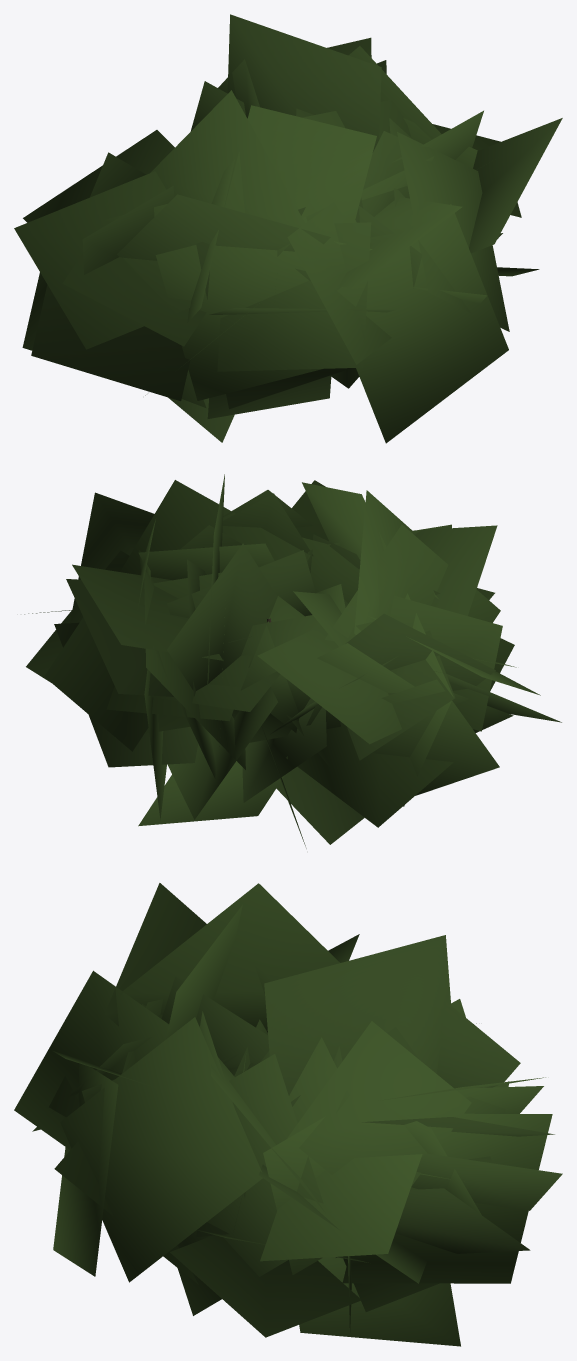
File: SM_Krzak_1.glb
The picture shows the model from 3 angles, top to bottom: view 1: azimuth 30°, elevation 25°; view 2: azimuth 150°, elevation 25°; view 3: azimuth 270°, elevation 25°; orthographic projection. The views are drawn at different scales.
Visible parts, largest first — view 1: SM_Krzak_1; view 2: SM_Krzak_1; view 3: SM_Krzak_1.
Boxes of the visible parts, left/top/right/bottom form: SM_Krzak_1: left=14, top=14, right=562, bottom=443; SM_Krzak_1: left=24, top=474, right=561, bottom=848; SM_Krzak_1: left=14, top=883, right=562, bottom=1346.
Bounding box in the file's own units: 5.28 × 3.53 × 4.23.
